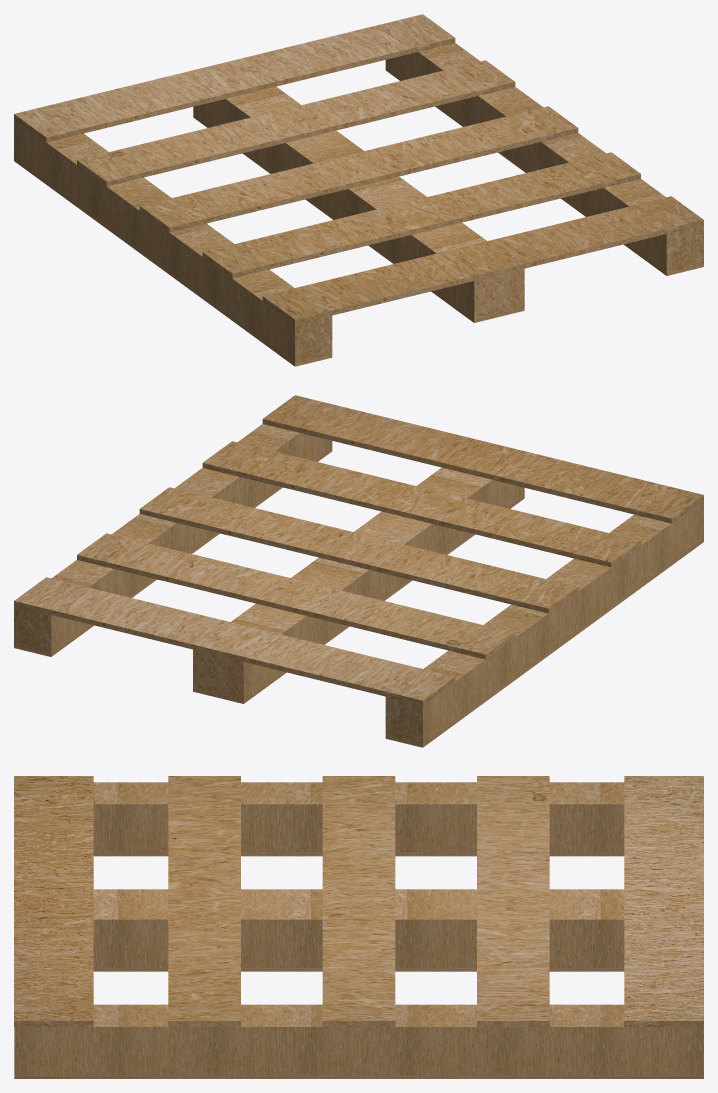
Rendered from stand.FBX.
The picture shows the model from 3 angles, top to bottom: view 1: azimuth 30°, elevation 25°; view 2: azimuth 150°, elevation 25°; view 3: azimuth 270°, elevation 25°; orthographic projection. The views are drawn at different scales.
Visible parts, largest first — view 1: planks, stand; view 2: planks, stand; view 3: planks, stand.
Part boxes in pixels (bbox=[...]): planks: bbox=[14, 14, 703, 324]; stand: bbox=[14, 43, 703, 366]; planks: bbox=[14, 395, 703, 705]; stand: bbox=[14, 424, 703, 747]; planks: bbox=[14, 776, 703, 1026]; stand: bbox=[14, 782, 703, 1078].
Size of the model in its own units: 70.35 by 7.75 by 83.75.
1 material, 1 textured.
